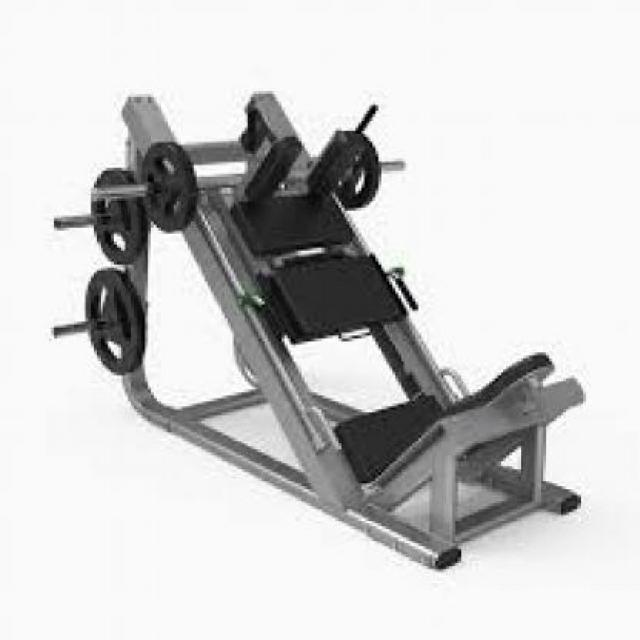leg press: (36, 76, 618, 584)
